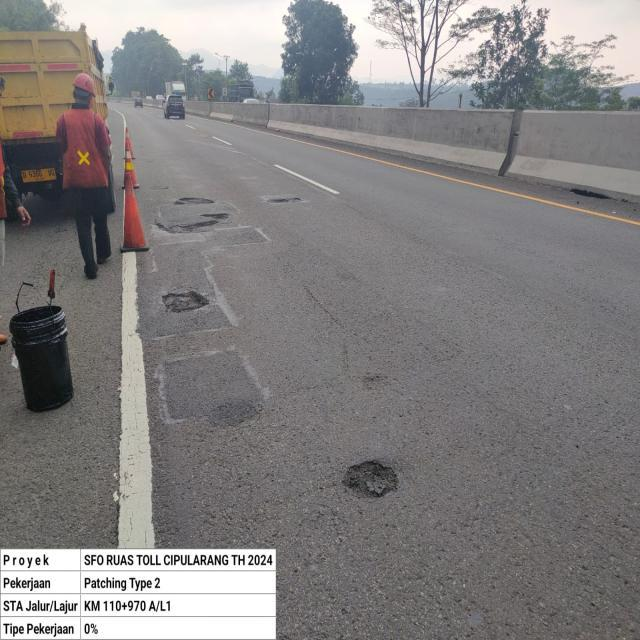Buraco: (338, 458, 402, 502), (159, 289, 213, 316), (153, 219, 221, 236), (566, 187, 616, 201), (171, 196, 216, 207), (264, 196, 306, 206), (198, 212, 233, 222)
